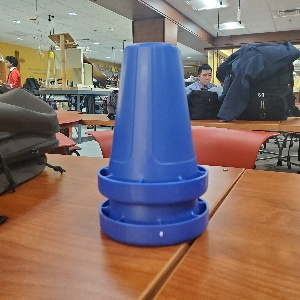Blue_2: (95, 41, 213, 247)
